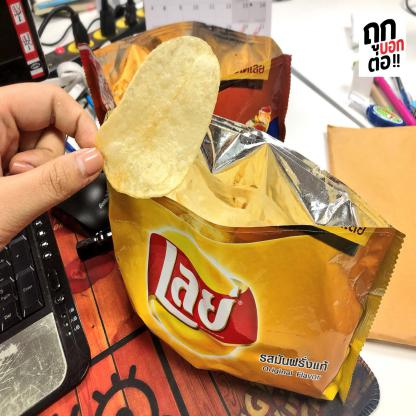potatochip: (110, 108, 404, 405), (76, 21, 292, 224)
